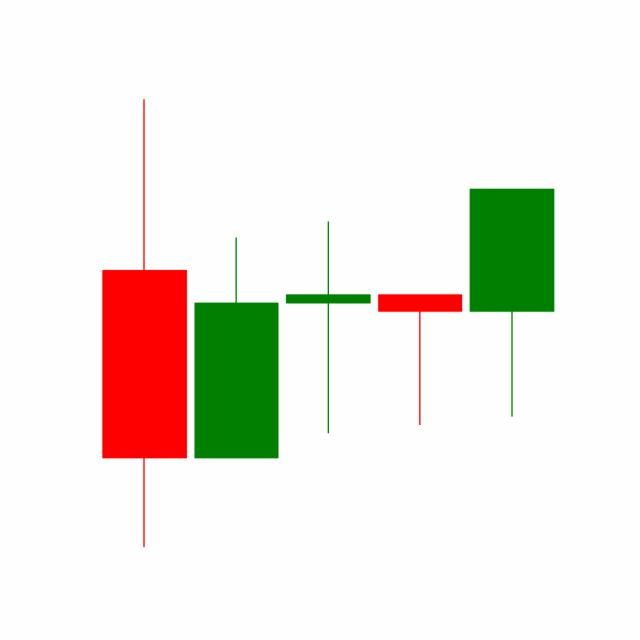Dragonfly Doji: (373, 292, 467, 427)
